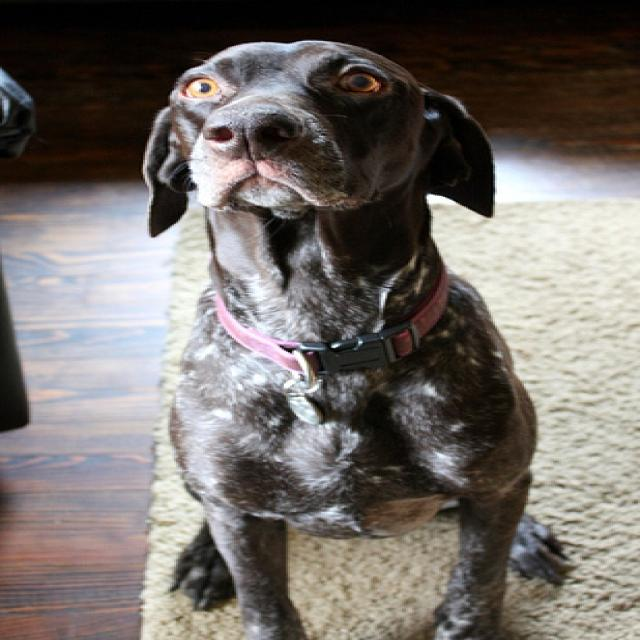dog-german_shorthaired: (126, 23, 578, 637)
